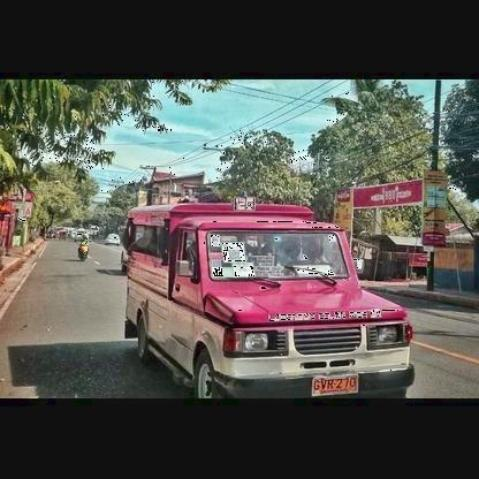jeepney: (113, 197, 421, 394)
motorcycle: (76, 236, 90, 264)
